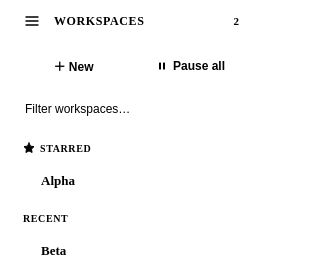
Test case: WorkspaceRail sections › filter searches across sections and hides emptied ones
Type "bet" into the field named "Filter workspaces by name" at (132, 109), box [16, 94, 248, 124]
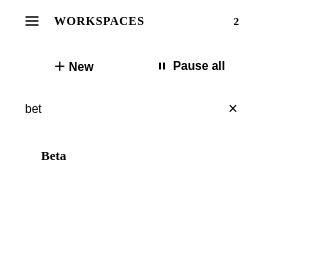
Expected: the text "Beta" is shown, [41, 148, 66, 163]
Now the text "Starred" is gone
Now the button "Alpha" is gone
